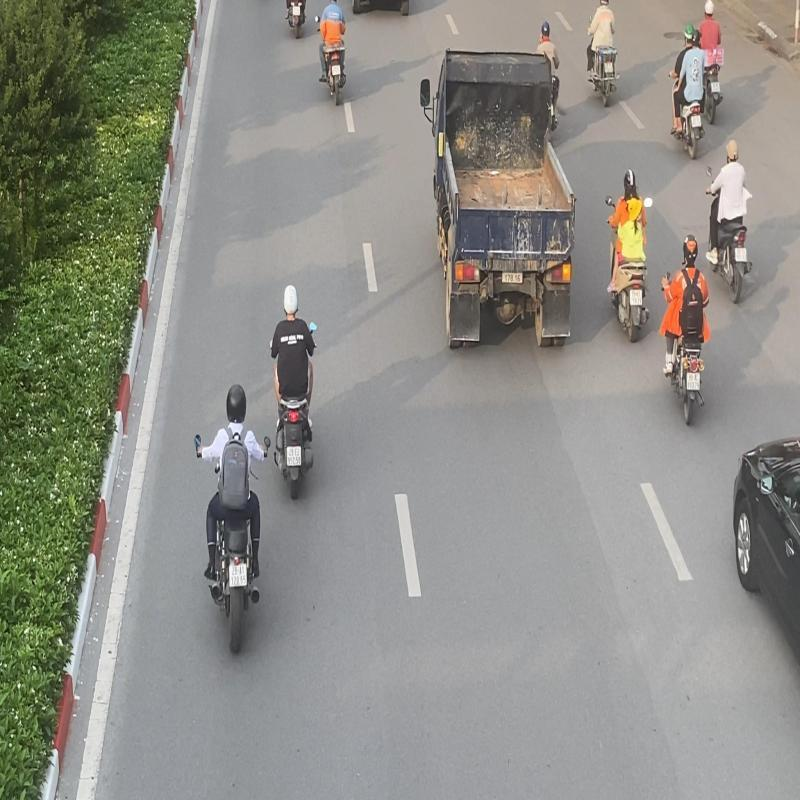helmet: (224, 383, 249, 424), (282, 284, 300, 316), (682, 235, 698, 264), (623, 168, 636, 194), (725, 138, 739, 162)
licenseplate: (228, 562, 248, 588), (286, 445, 302, 466), (686, 371, 701, 391), (630, 289, 643, 307), (735, 247, 747, 263)
motorcyclist: (192, 381, 272, 657), (269, 281, 320, 502), (660, 232, 710, 426), (605, 166, 653, 343), (705, 136, 754, 306)
